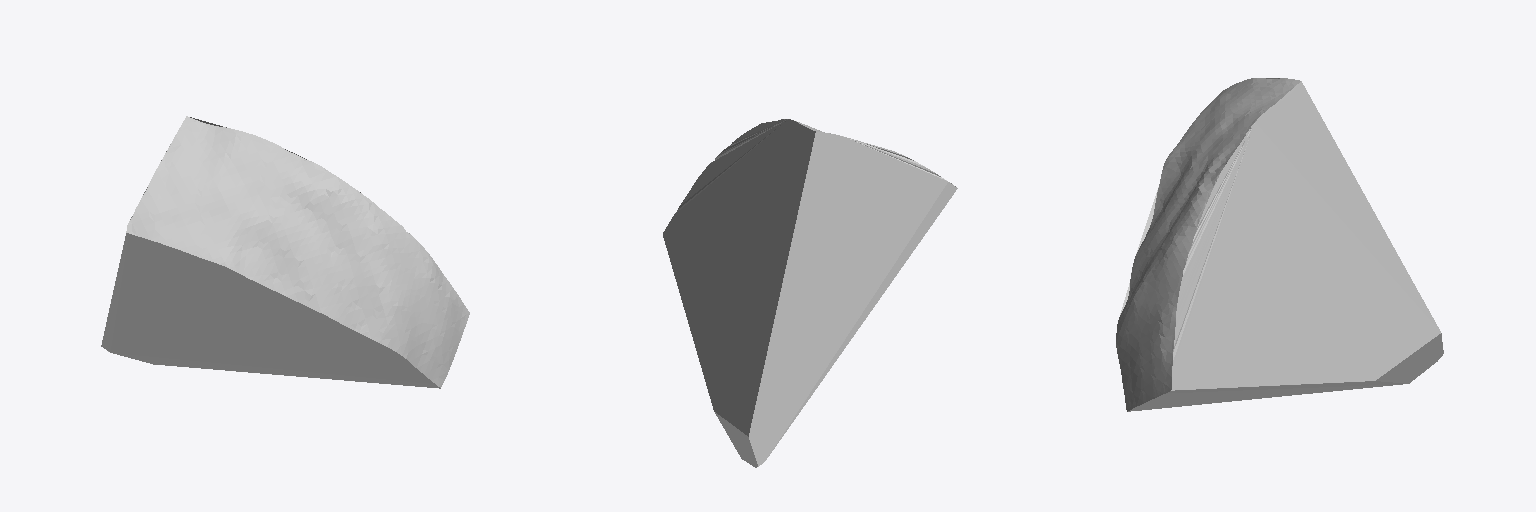
File: low_cell_091.obj
3 views of the same model, side by side, from view 1: azimuth 30°, elevation 25°; view 2: azimuth 150°, elevation 25°; view 3: azimuth 270°, elevation 25° (orthographic).
Parts seen in each view (by area): view 1: low_cell.091_low_cell.090; view 2: low_cell.091_low_cell.090; view 3: low_cell.091_low_cell.090.
Part boxes in pixels (bbox=[...]): low_cell.091_low_cell.090: bbox=[101, 116, 469, 388]; low_cell.091_low_cell.090: bbox=[663, 119, 957, 467]; low_cell.091_low_cell.090: bbox=[1116, 78, 1443, 411].
Size of the model in its own units: 0.7435 by 0.6511 by 0.6603.